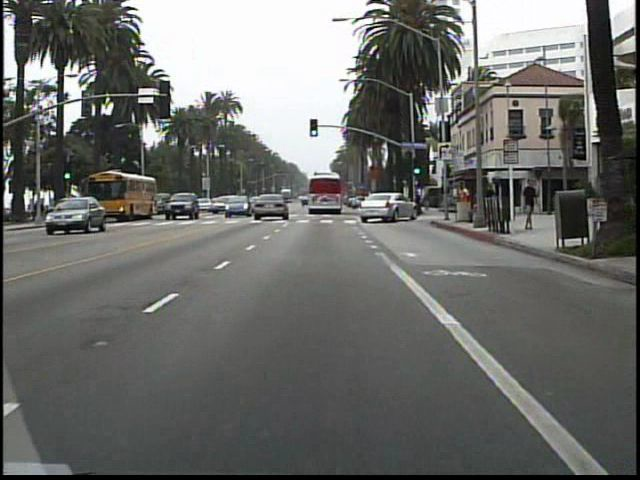person: (518, 176, 540, 234), (483, 180, 499, 225), (454, 180, 471, 222)
